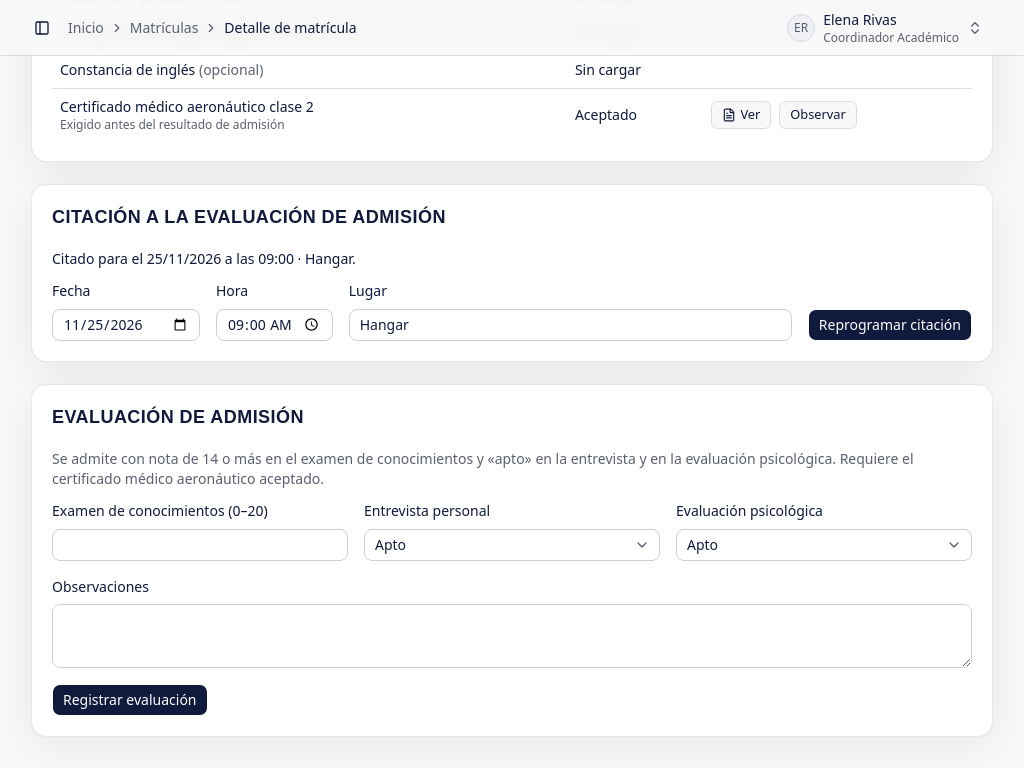
Test case: Admisión desde el detalle de la postulación › con nota 14 y ambos aptos admite y pide el pago, que luego se registra
(page scrolled)
Type "14" into the number field labelled "Examen de conocimientos (0–20)" at (200, 544), box x1=52 y1=528 x2=348 y2=560
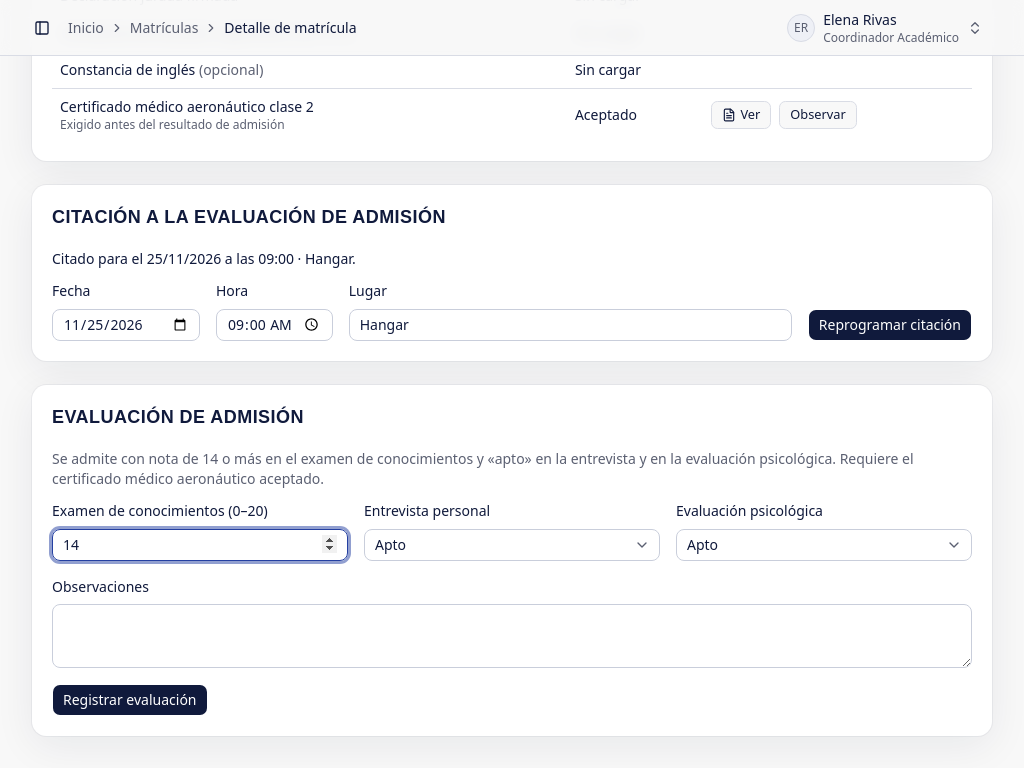
Click the button "Registrar evaluación" at (130, 700), box x1=52 y1=684 x2=208 y2=716
(page scrolled)
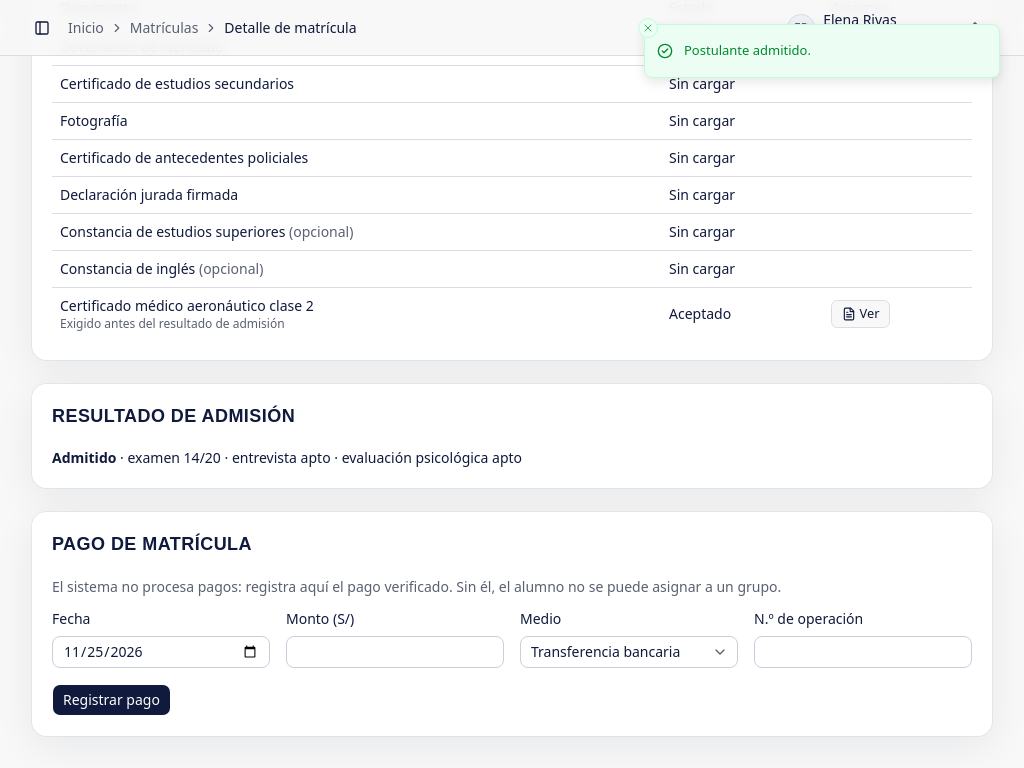
Type "1500" into the number field labelled "Monto (S/)" at (395, 652), box x1=286 y1=636 x2=504 y2=668
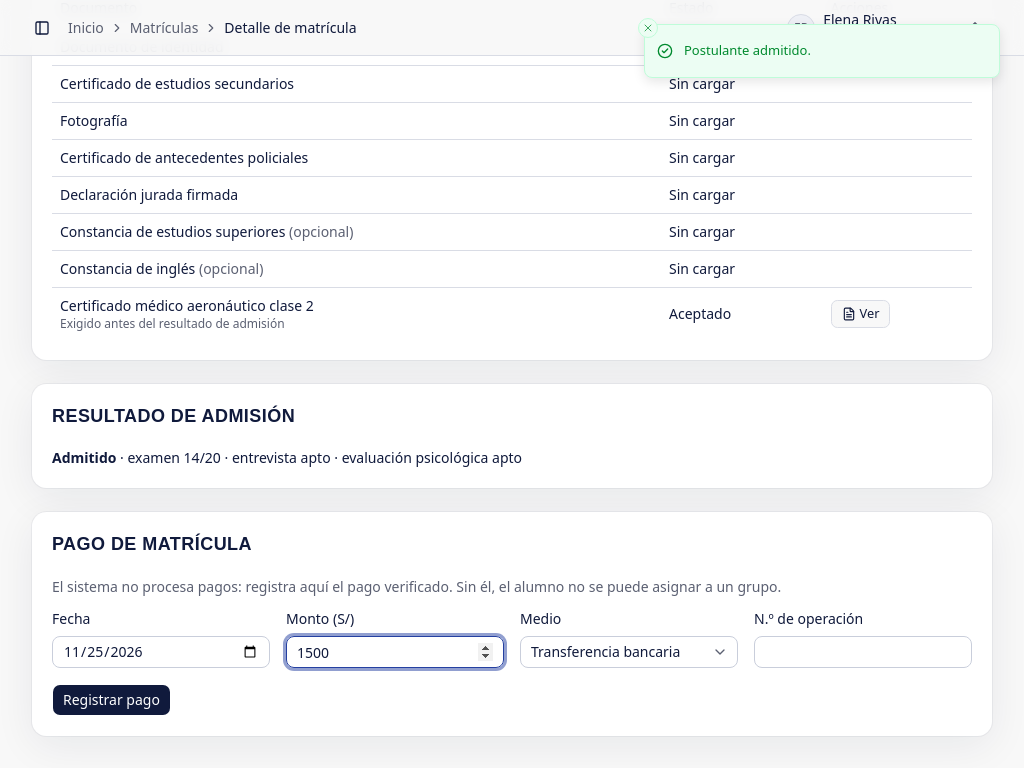
Type "OP-991" into the field labelled "N.º de operación" at (863, 652), box x1=754 y1=636 x2=972 y2=668
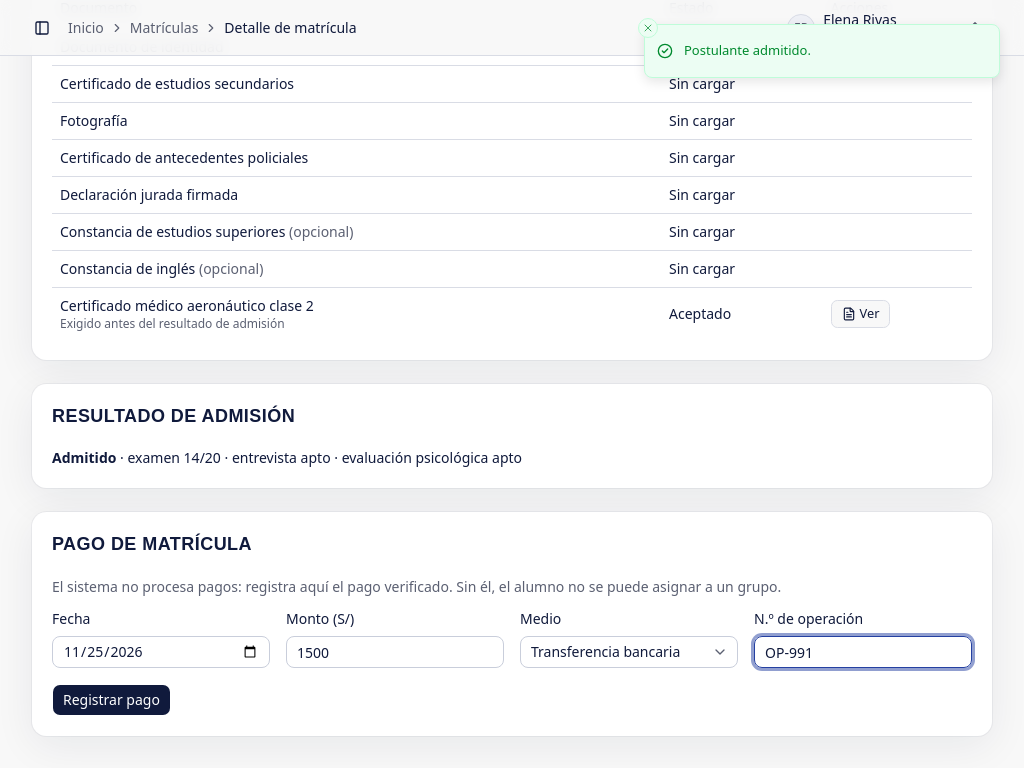
Click the button "Registrar pago" at (111, 700), box x1=52 y1=684 x2=171 y2=716
(page scrolled)
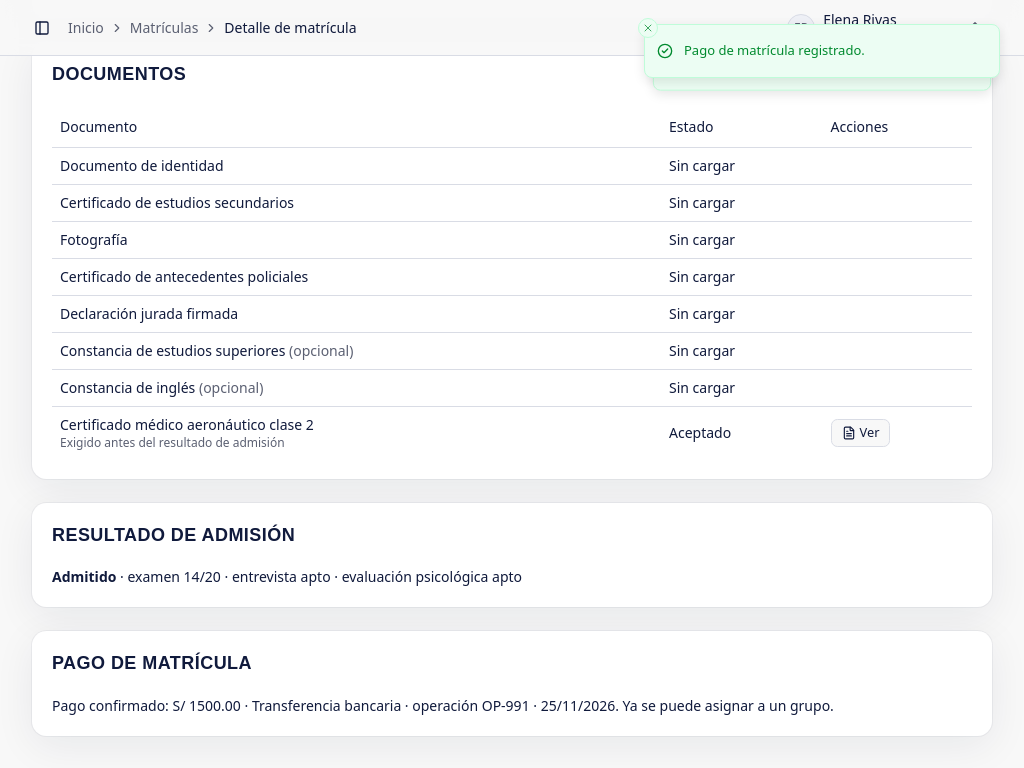
Now the text "Pago confirmado: S/ 1500.00" is shown, box x1=52 y1=696 x2=834 y2=715
